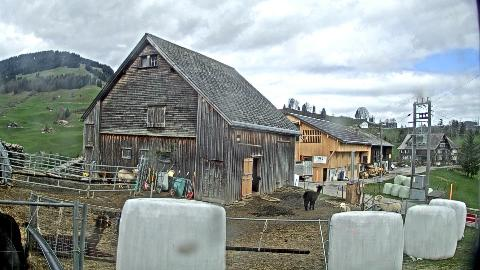car: (390, 162, 396, 172)
sheep: (38, 214, 112, 260), (0, 208, 32, 268), (302, 186, 322, 213), (118, 168, 138, 190), (98, 168, 114, 188), (252, 176, 260, 192), (252, 176, 254, 182)
